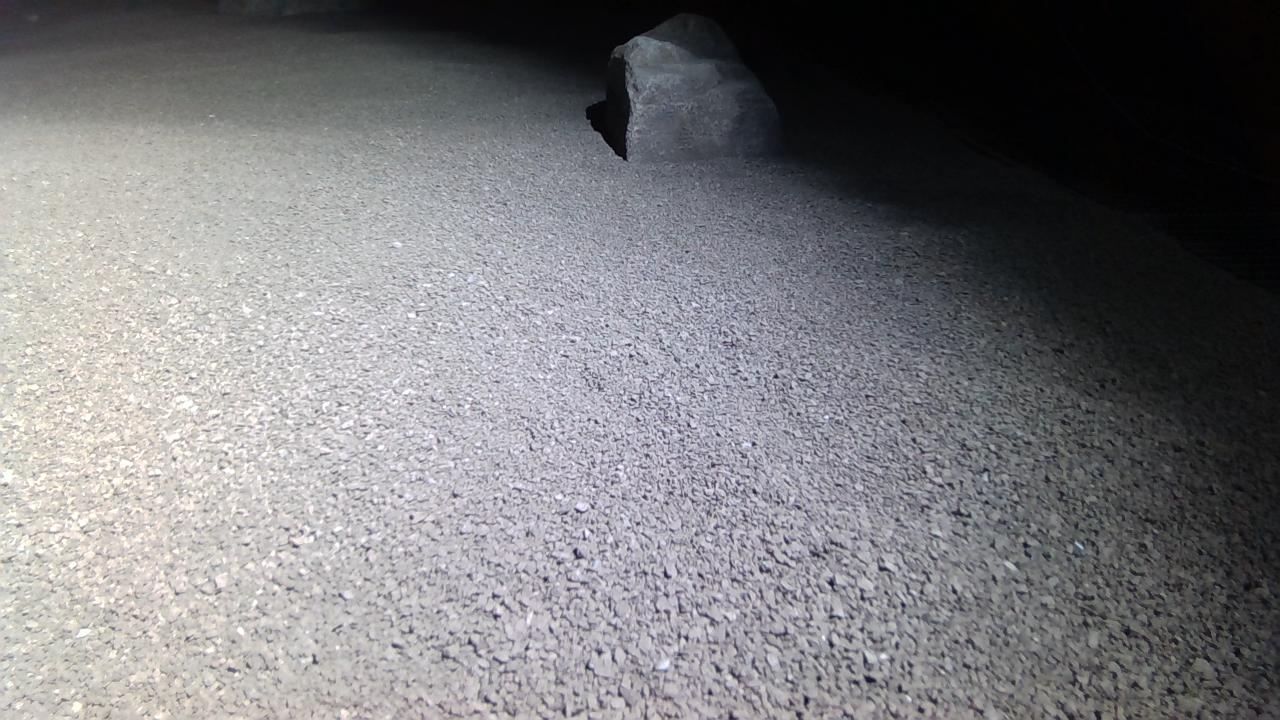rock: (605, 12, 784, 160), (217, 0, 367, 16)
